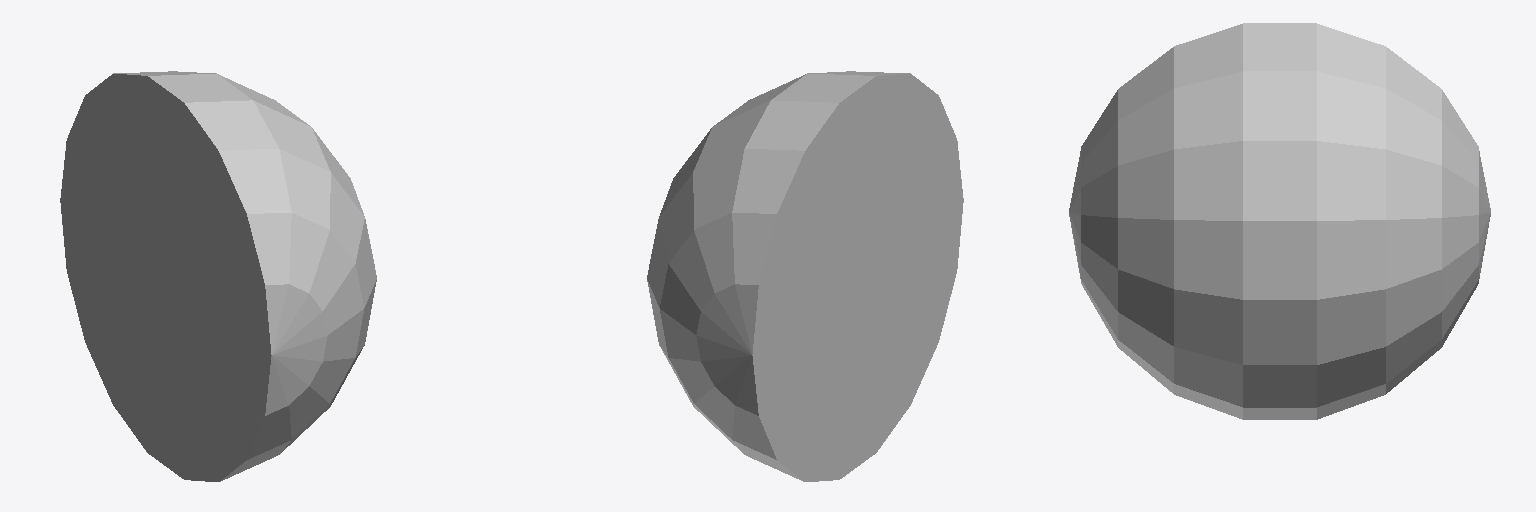
The model's file is scaler.obj.
3 renders of one model, left to right at view 1: azimuth 30°, elevation 25°; view 2: azimuth 150°, elevation 25°; view 3: azimuth 270°, elevation 25°, orthographic.
Visible parts, largest first — view 1: Sphere; view 2: Sphere; view 3: Sphere.
Part boxes in pixels (bbox=[...]): Sphere: bbox=[60, 71, 376, 481]; Sphere: bbox=[647, 71, 963, 481]; Sphere: bbox=[1069, 23, 1490, 419].
Bounding box in the file's own units: 0.9848 × 1.97 × 2.